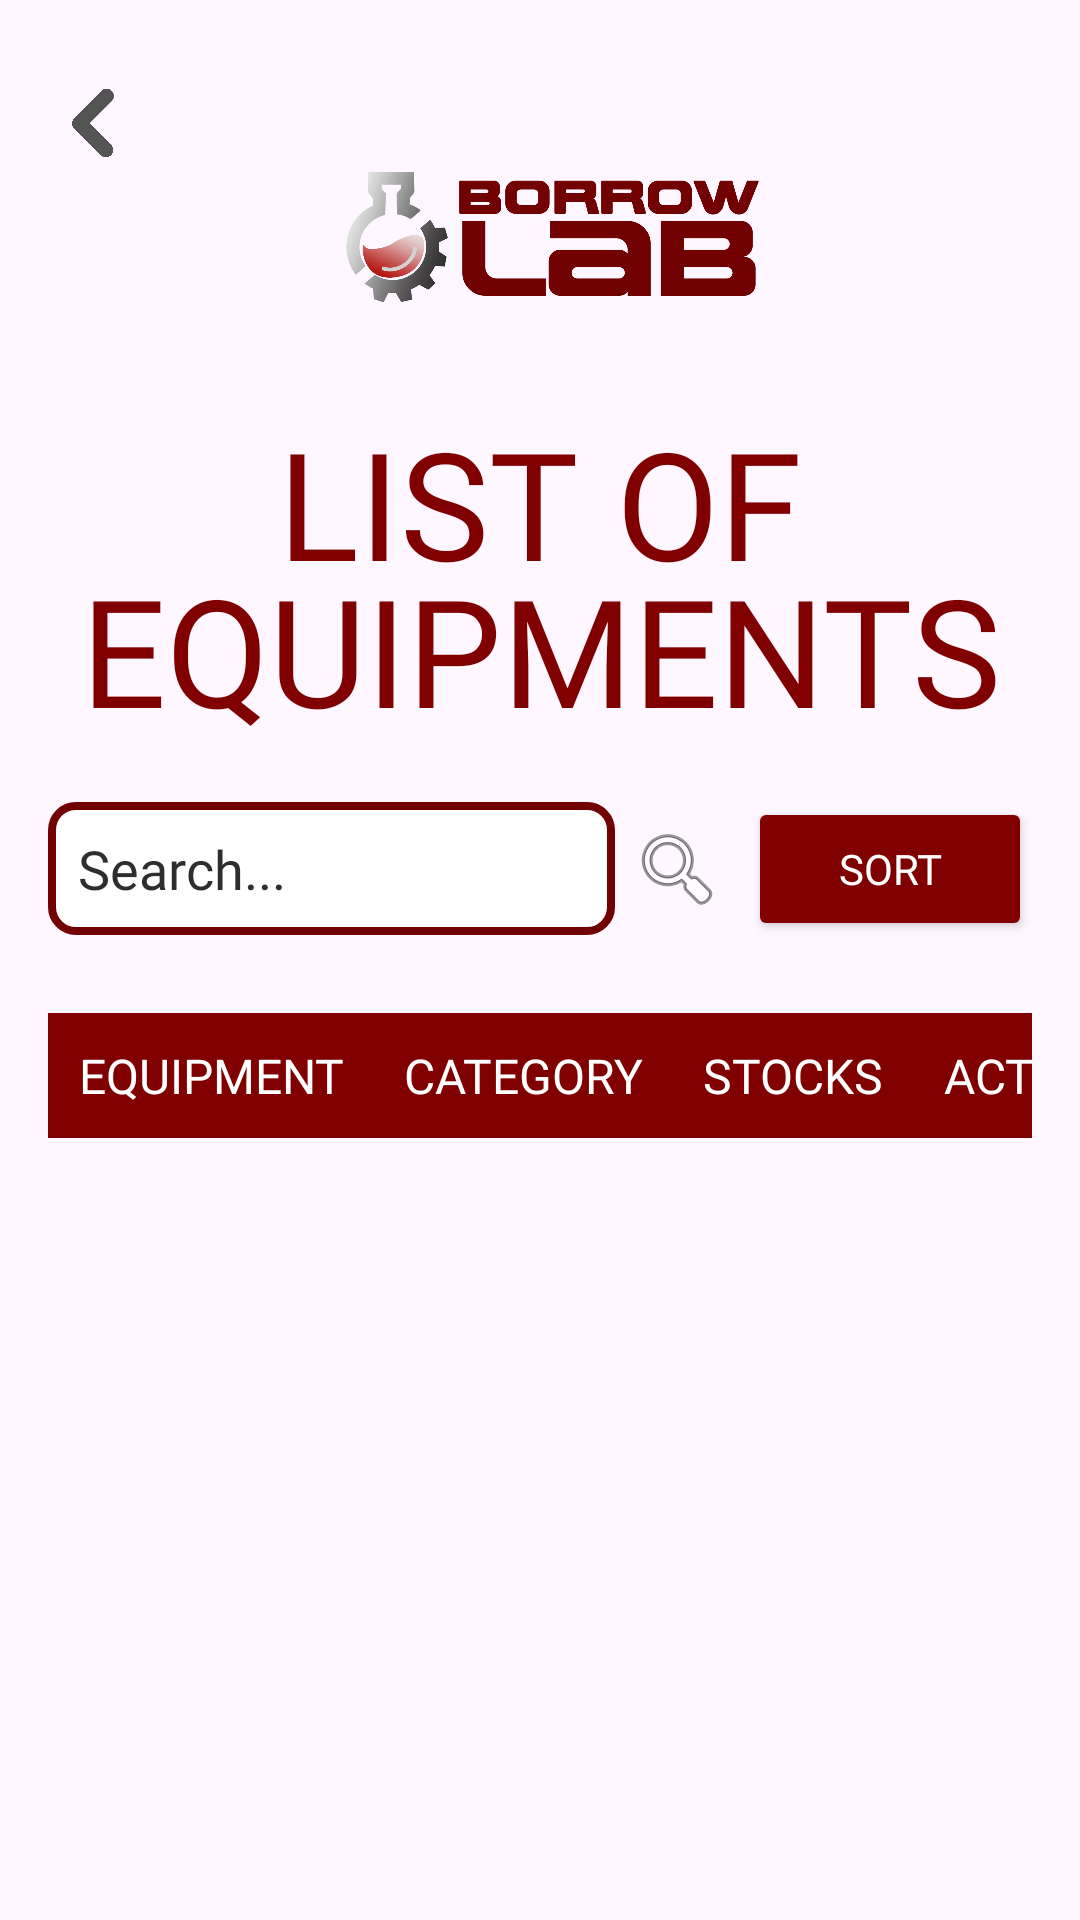

Locate icon controls on the screen. Image size 1080 x 1920, boxes as (x1, y1, x2, y2).
Back Button: (72, 89, 114, 157)
